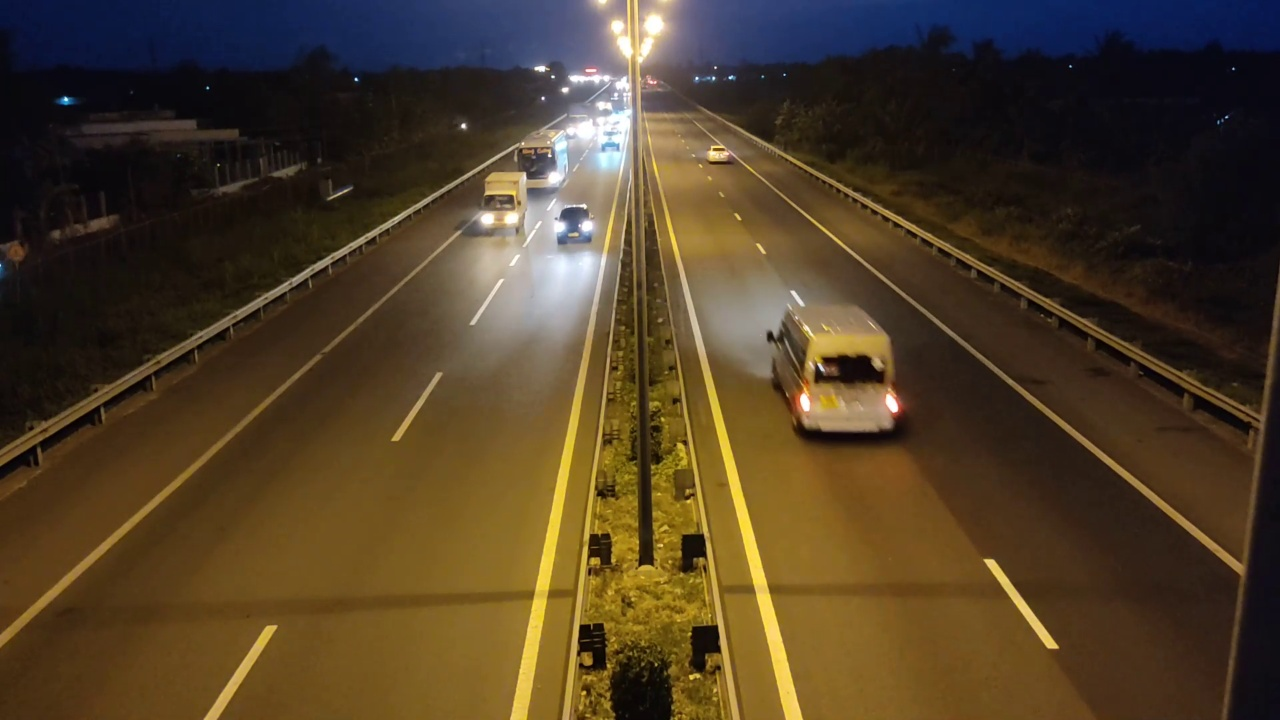car: (765, 298, 909, 439), (553, 203, 595, 246)
truck: (515, 128, 571, 193)
